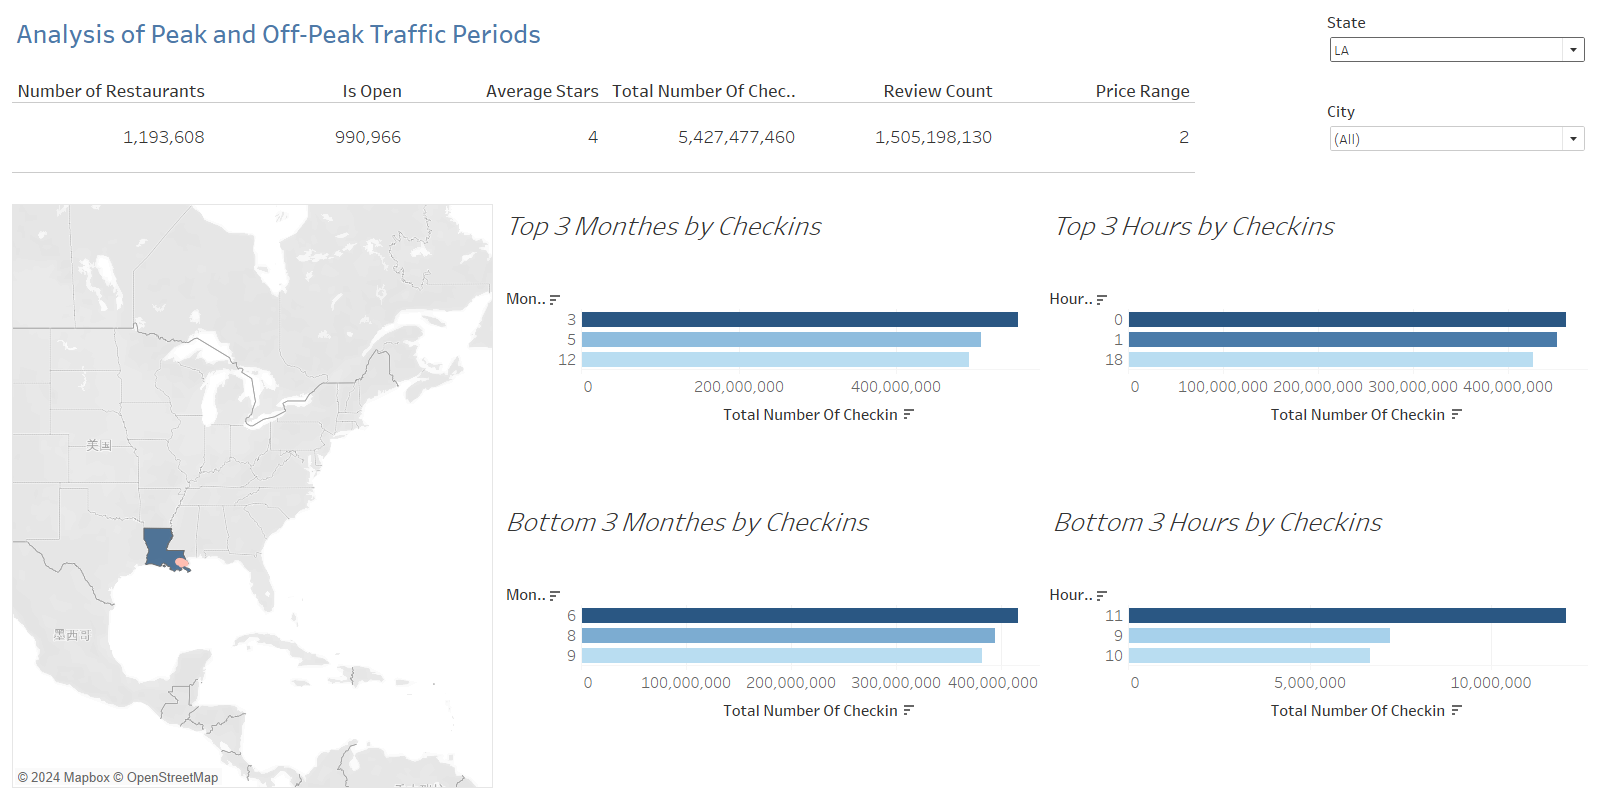

The dashboard page shown, as its layout file describes it:
{"tool":"tableau","page":{"name":"Top and Bottom","canvas":[1600,800],"ordinal":1},"visuals":[{"type":"worksheet","title":"Overview Table","mark":"Automatic","box":[8,8,1315,192]},{"type":"filter","title":"Map","param":"[federated.04s5m5o0ixxofv187frpv17251t0].[none:state:nk]","box":[1323,8,269,89]},{"type":"filter","title":"Top 3 Monthes by Checkins","param":"[federated.04s5m5o0ixxofv187frpv17251t0].[none:city:nk]","box":[1323,97,269,103]},{"type":"worksheet","title":"Map","mark":"Multipolygon","box":[8,200,489,592]},{"type":"worksheet","title":"Top 3 Monthes by Checkins","mark":"Bar","rows":["date"],"cols":["total_number_of_checkin"],"box":[497,200,547.4,296]},{"type":"worksheet","title":"Top 3 Hours by Checkins","mark":"Bar","rows":["date"],"cols":["total_number_of_checkin"],"box":[1044.4,200,547.6,296]},{"type":"worksheet","title":"Bottom 3 Monthes by Checkins","mark":"Bar","rows":["date"],"cols":["total_number_of_checkin"],"box":[497,496,547.4,296]},{"type":"worksheet","title":"Bottom 3 Hours by Checkins","mark":"Bar","rows":["date"],"cols":["total_number_of_checkin"],"box":[1044.4,496,547.6,296]}]}

Visuals, with their boxes in screenshot pixels (x1, y1, x2, y2), scaled from the page's 1600x800 canvas onto the 1597x798 screenshot:
"Overview Table" worksheet: [x1=8, y1=8, x2=1321, y2=200]
"Map" filter: [x1=1321, y1=8, x2=1589, y2=97]
"Top 3 Monthes by Checkins" filter: [x1=1321, y1=97, x2=1589, y2=200]
"Map" worksheet (Multipolygon marks): [x1=8, y1=200, x2=496, y2=790]
"Top 3 Monthes by Checkins" worksheet (Bar marks): [x1=496, y1=200, x2=1042, y2=495]
"Top 3 Hours by Checkins" worksheet (Bar marks): [x1=1042, y1=200, x2=1589, y2=495]
"Bottom 3 Monthes by Checkins" worksheet (Bar marks): [x1=496, y1=495, x2=1042, y2=790]
"Bottom 3 Hours by Checkins" worksheet (Bar marks): [x1=1042, y1=495, x2=1589, y2=790]
